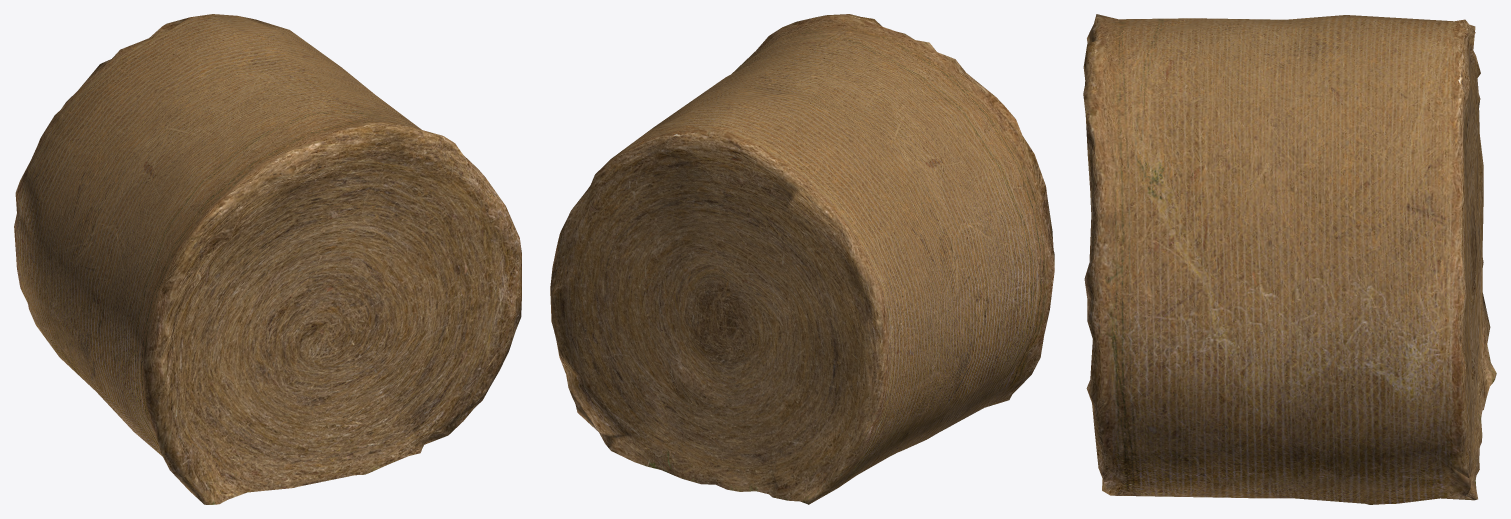
Rendered from round_hay_bale_rlcay_low.glb.
3 views of the same model, side by side, from view 1: azimuth 30°, elevation 25°; view 2: azimuth 150°, elevation 25°; view 3: azimuth 270°, elevation 25° (orthographic). The views are drawn at different scales.
Visible parts, largest first — view 1: rlCay_LOD0_TIER3_000; view 2: rlCay_LOD0_TIER3_000; view 3: rlCay_LOD0_TIER3_000.
Boxes of the visible parts, <box> form: rlCay_LOD0_TIER3_000: <box>14,14,521,504</box>; rlCay_LOD0_TIER3_000: <box>550,14,1054,504</box>; rlCay_LOD0_TIER3_000: <box>1083,14,1496,504</box>.
Size of the model in its own units: 1.6 by 1.47 by 1.32.
Materials: 1 (1 with a texture image).
